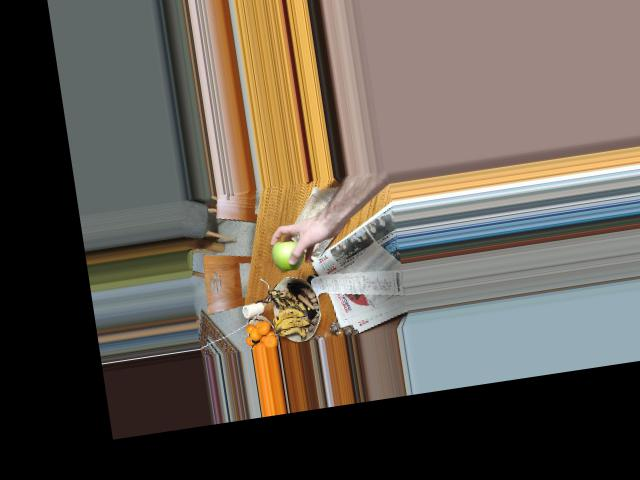apple: (270, 239, 308, 273)
